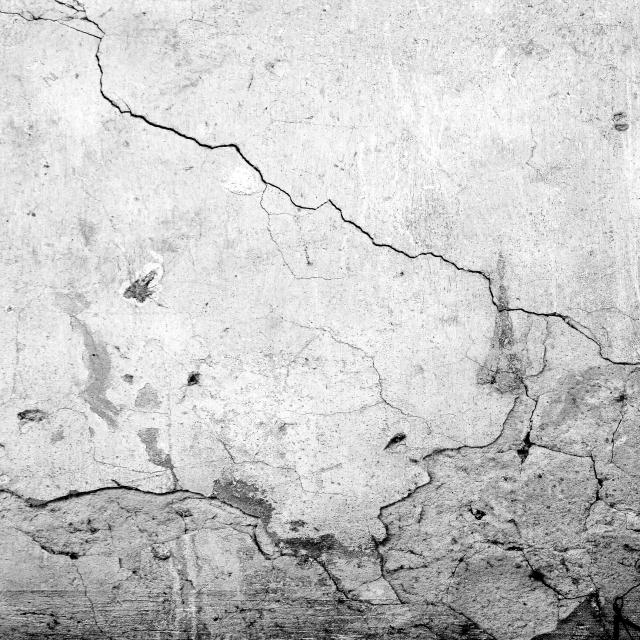Wall_Cracks: (3, 0, 639, 635)
